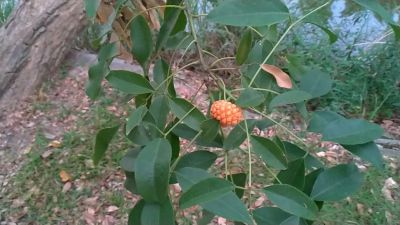eggs: (205, 97, 247, 129)
